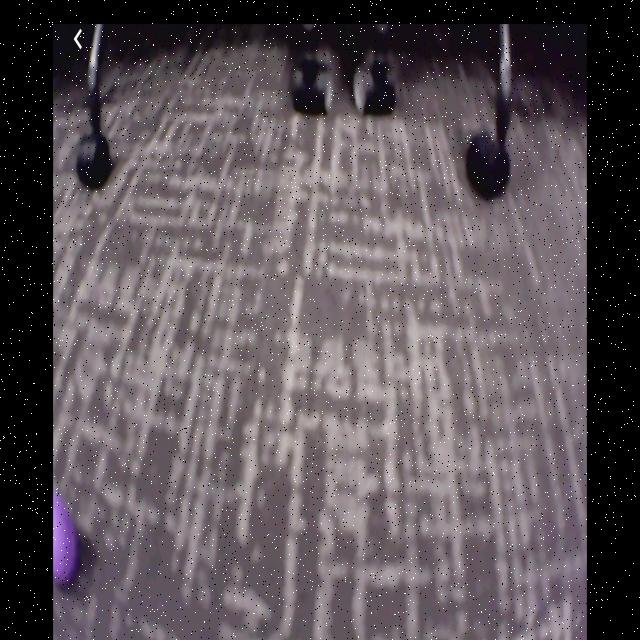ball: (56, 489, 80, 588)
